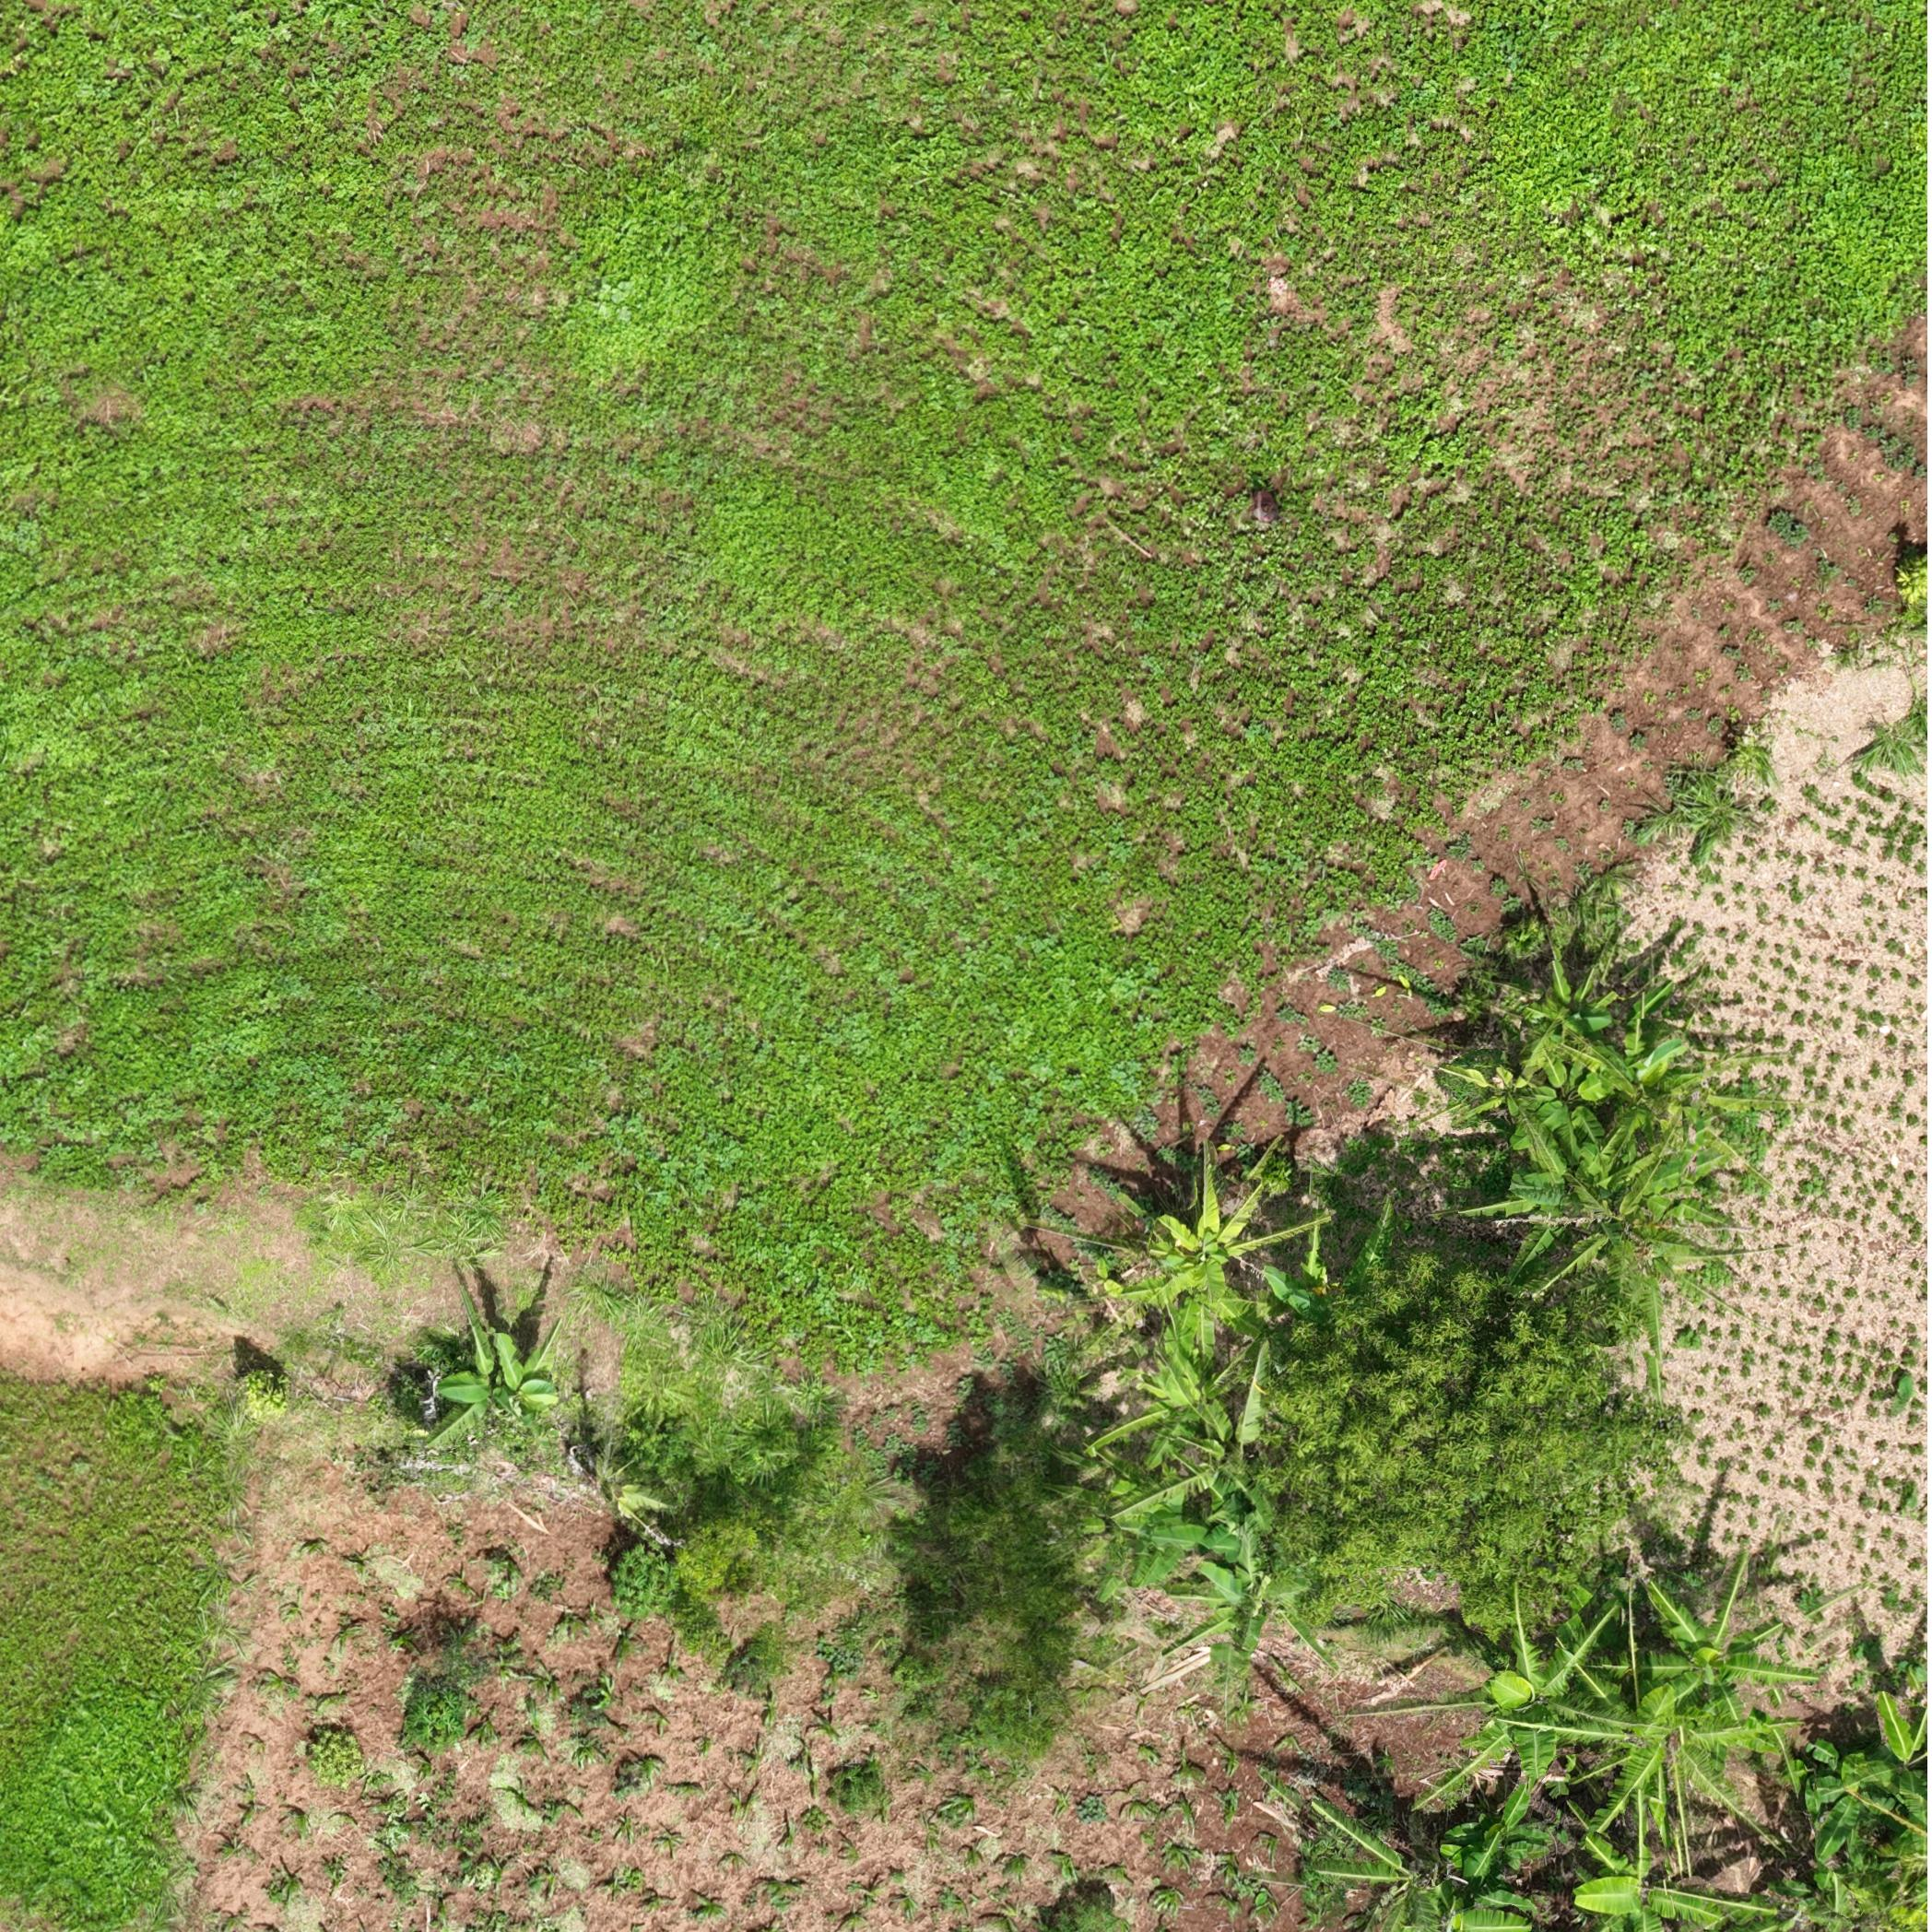Banana: (1265, 1789, 1545, 1930), (1407, 1606, 1610, 1782), (382, 1281, 580, 1454), (1129, 1164, 1334, 1322), (1154, 1550, 1336, 1716), (1116, 1286, 1286, 1431), (1460, 1051, 1583, 1155), (1798, 1734, 1900, 1854), (1580, 1014, 1695, 1120), (1513, 950, 1614, 1058), (1858, 1677, 1928, 1826), (1776, 1851, 1898, 1930)
